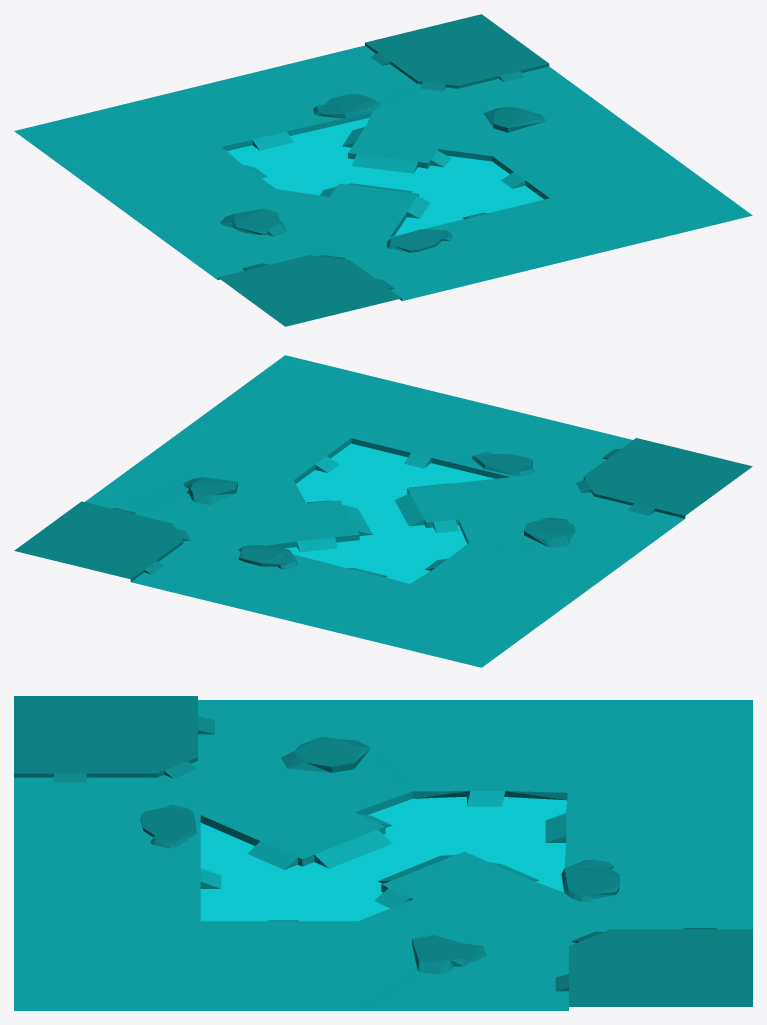
File: Amobus_plain2.fbx
3 renders of one model, top to bottom at view 1: azimuth 30°, elevation 25°; view 2: azimuth 150°, elevation 25°; view 3: azimuth 270°, elevation 25°, orthographic. The views are drawn at different scales.
Visible parts, largest first — view 1: Amobus_plain; view 2: Amobus_plain; view 3: Amobus_plain.
Part boxes in pixels (x1,y1,x2,y2): Amobus_plain: [14, 14, 752, 326]; Amobus_plain: [14, 355, 752, 667]; Amobus_plain: [14, 696, 752, 1010].
Size of the model in its own units: 4036 by 82.74 by 4055.
